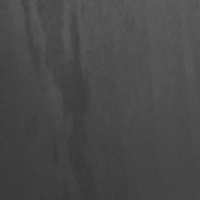inclusion: (24, 0, 105, 198), (11, 0, 53, 88)
